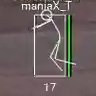hacks_1: (20, 1, 77, 92)
